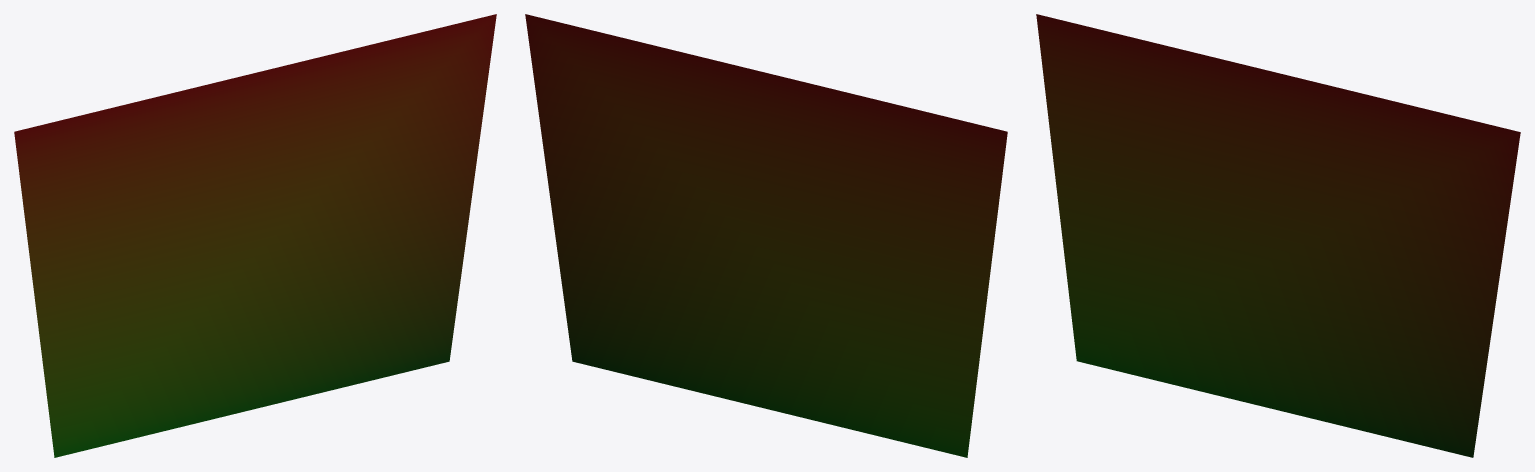
The model's file is Var9_LOD3.fbx.
The picture shows the model from 3 angles, left to right: view 1: azimuth 30°, elevation 25°; view 2: azimuth 150°, elevation 25°; view 3: azimuth 330°, elevation 25°; orthographic projection.
Visible parts, largest first — view 1: _02cb_Var9_LOD3; view 2: _02cb_Var9_LOD3; view 3: _02cb_Var9_LOD3.
Boxes of the visible parts, x1,y1,x2,y2 form: _02cb_Var9_LOD3: (14, 14, 496, 457); _02cb_Var9_LOD3: (525, 14, 1007, 457); _02cb_Var9_LOD3: (1036, 14, 1520, 457).
Bounding box in the file's own units: 39.56 × 26.32 × 1.72e-05.
